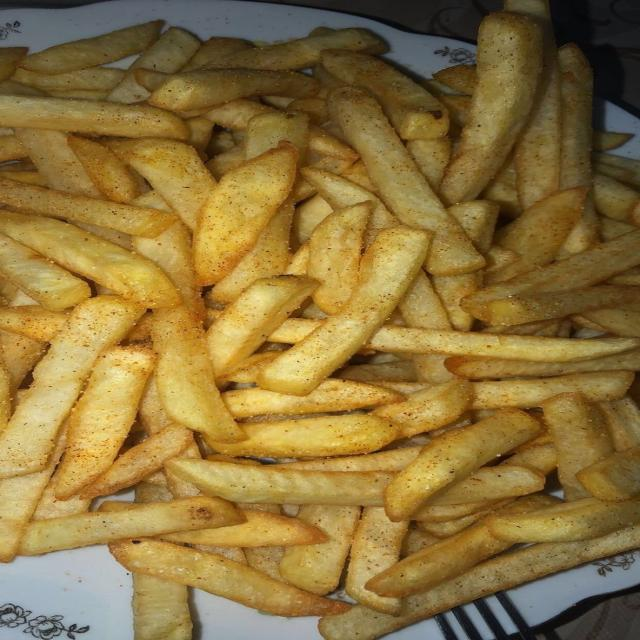potato fries: (0, 0, 639, 639), (258, 227, 430, 395), (0, 297, 142, 477), (441, 12, 541, 204), (110, 540, 348, 616), (385, 410, 540, 521), (194, 142, 297, 285), (0, 95, 188, 139), (19, 21, 162, 74), (0, 234, 90, 311)
